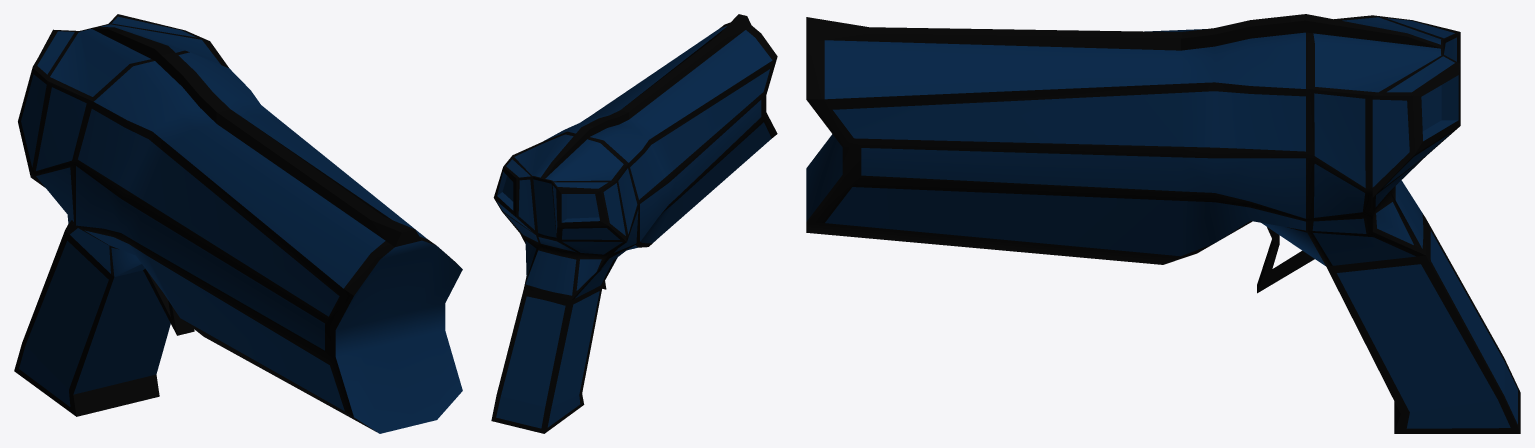
The model's file is GunFinaltake2.fbx.
The picture shows the model from 3 angles, left to right: view 1: azimuth 30°, elevation 25°; view 2: azimuth 150°, elevation 25°; view 3: azimuth 270°, elevation 25°; orthographic projection. The views are drawn at different scales.
Parts seen in each view (by area): view 1: pCube1; view 2: pCube1; view 3: pCube1.
Part boxes in pixels (left/top/right/bottom): pCube1: left=14, top=14, right=462, bottom=433; pCube1: left=491, top=14, right=777, bottom=433; pCube1: left=806, top=14, right=1520, bottom=433.
Size of the model in its own units: 1.14 by 2.18 by 3.57.
